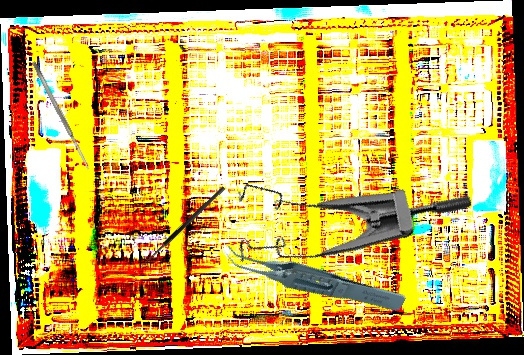Hook Surgical: (138, 185, 230, 274)
Spatula Surgical: (30, 60, 92, 172)
Speculum: (213, 102, 476, 304)
Tissue Forceps: (220, 207, 408, 346)
